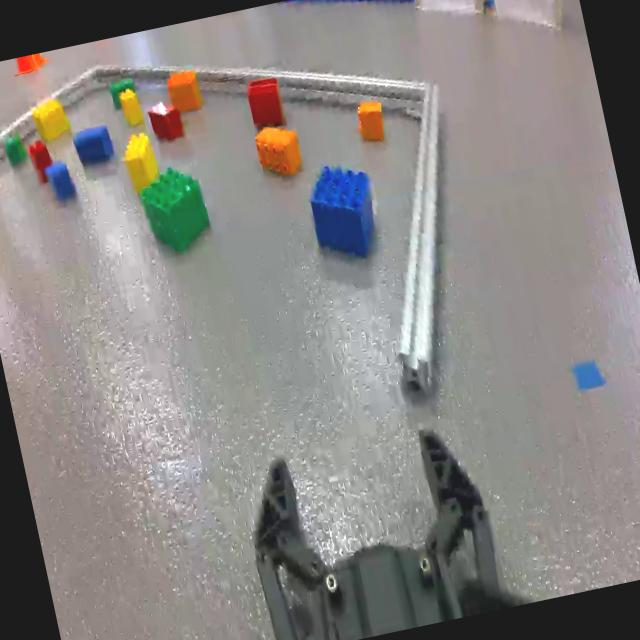block: (122, 128, 160, 186), (29, 96, 72, 140), (119, 90, 144, 125)
blue: (300, 156, 388, 262), (70, 126, 119, 164), (44, 161, 77, 200)
cone: (14, 52, 46, 75)
green: (134, 165, 216, 254), (108, 76, 142, 105), (2, 138, 26, 166)
metal barrier: (0, 63, 442, 392)
orange: (252, 120, 307, 180), (164, 63, 203, 115), (357, 104, 392, 144)
red goal: (246, 76, 286, 126), (149, 101, 185, 139), (26, 142, 56, 177)
river: (276, 0, 420, 40)
storage cube: (489, 0, 571, 47), (415, 0, 493, 26)
